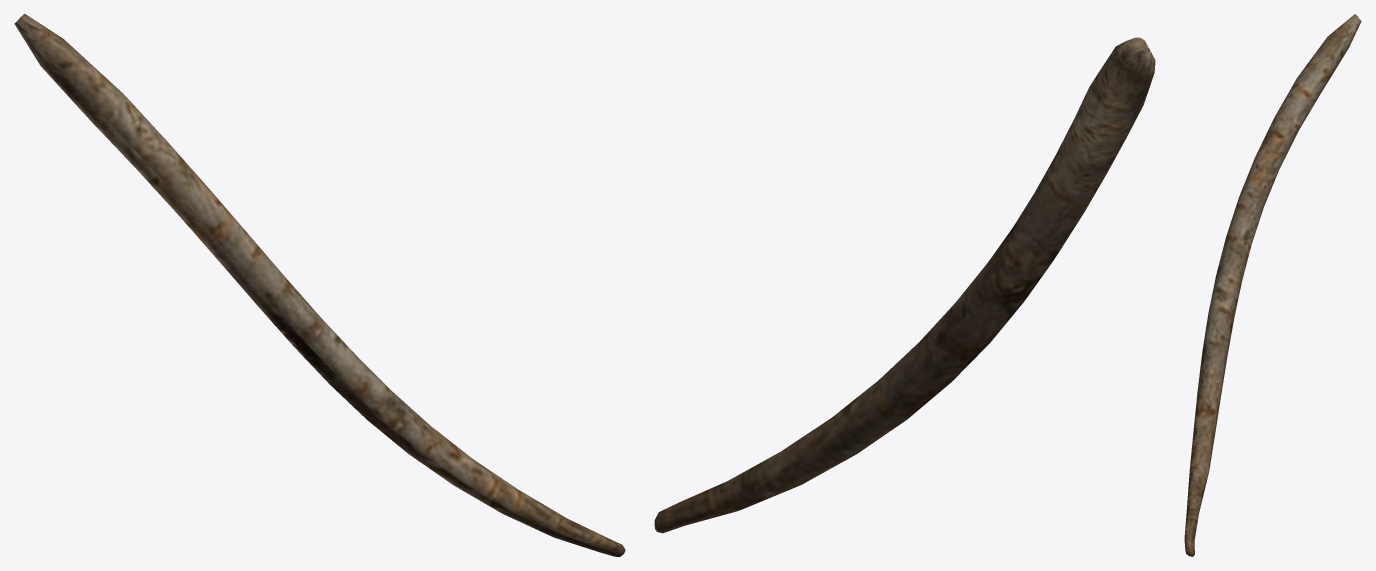
3 renders of one model, left to right at view 1: azimuth 30°, elevation 25°; view 2: azimuth 150°, elevation 25°; view 3: azimuth 270°, elevation 25°, orthographic. The views are drawn at different scales.
Visible parts, largest first — view 1: G-Line003.017; view 2: G-Line003.017; view 3: G-Line003.017.
Boxes of the visible parts, x1,y1,x2,y2 form: G-Line003.017: (14, 14, 625, 556); G-Line003.017: (654, 37, 1155, 533); G-Line003.017: (1184, 14, 1361, 556).
Bounding box in the file's own units: 1 × 1.12 × 0.4672.
Materials: 1 (1 with a texture image).
